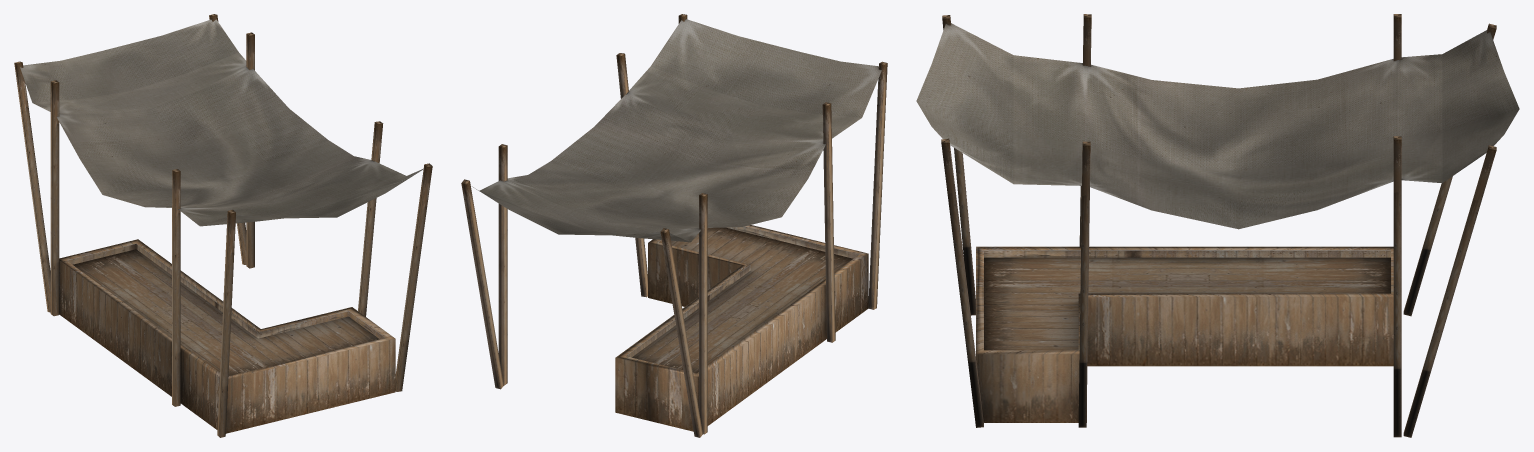
File: Tent2_atlas.fbx
3 renders of one model, left to right at view 1: azimuth 30°, elevation 25°; view 2: azimuth 150°, elevation 25°; view 3: azimuth 270°, elevation 25°, orthographic. The views are drawn at different scales.
Visible parts, largest first — view 1: polySurface1; view 2: polySurface1; view 3: polySurface1.
Part boxes in pixels (x1,y1,x2,y2): polySurface1: [14, 14, 432, 437]; polySurface1: [461, 14, 887, 437]; polySurface1: [916, 14, 1519, 437].
Bounding box in the file's own units: 3.25 × 3.22 × 5.89.
